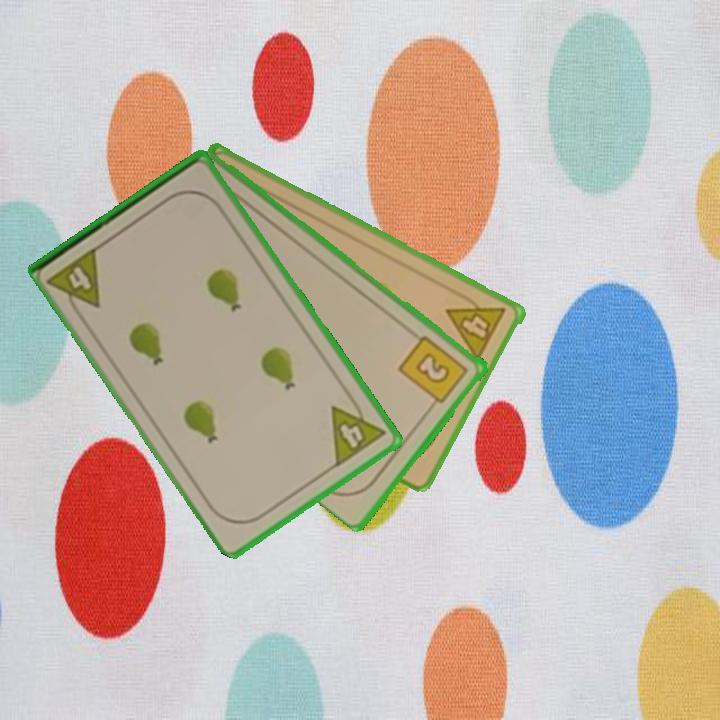2b: (395, 331, 472, 412)
4p: (443, 287, 509, 365), (327, 391, 389, 470), (45, 243, 104, 321)
